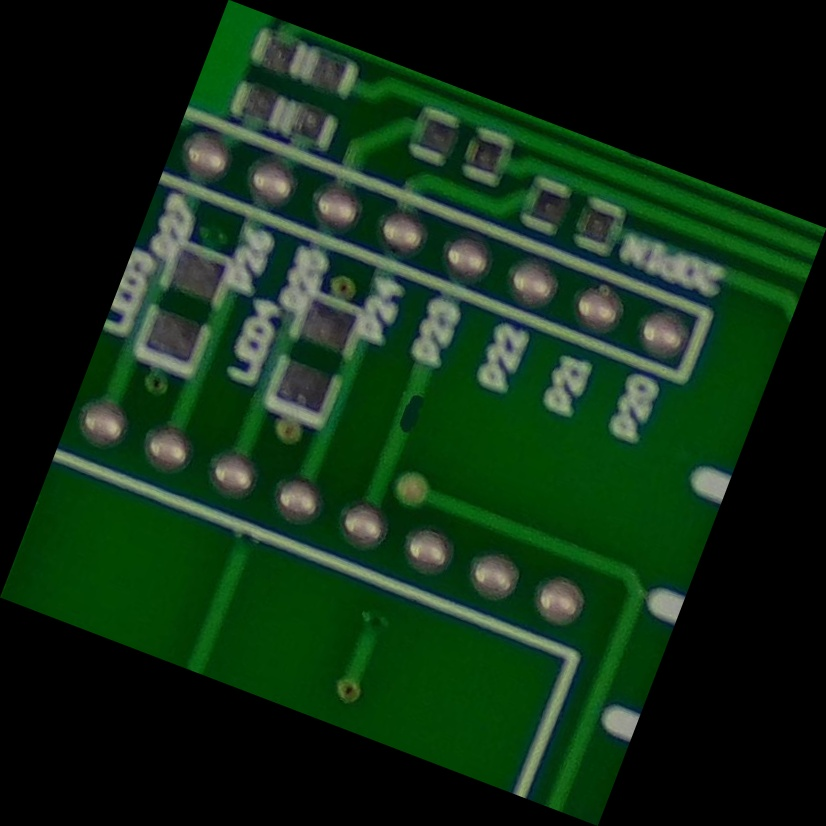mouse_bite: (368, 369, 458, 457)
